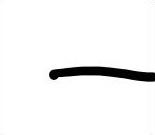minus: (50, 67, 155, 84)
